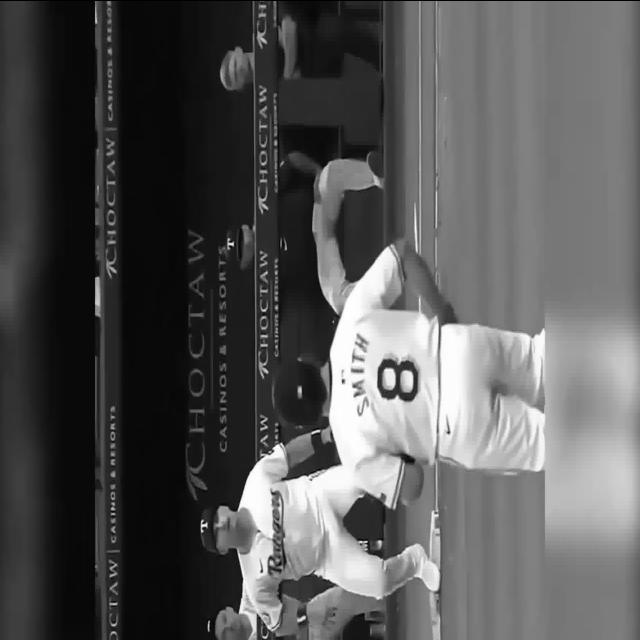base: (429, 509, 441, 567), (429, 591, 441, 639)
shoe: (406, 542, 441, 591), (366, 149, 384, 189)
